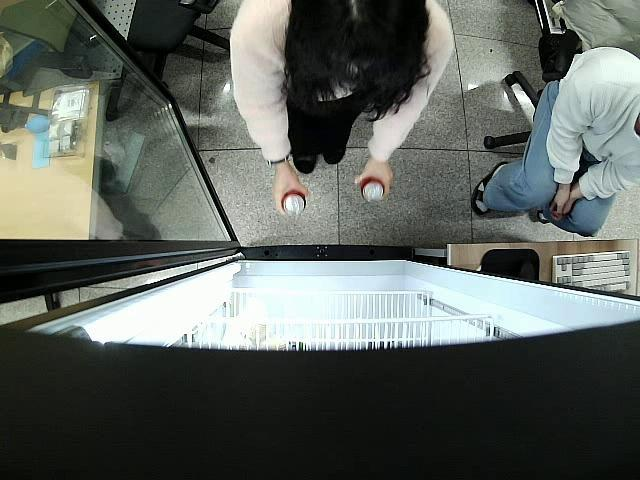11_cocaColaZero: (282, 190, 306, 218), (360, 178, 384, 204)
